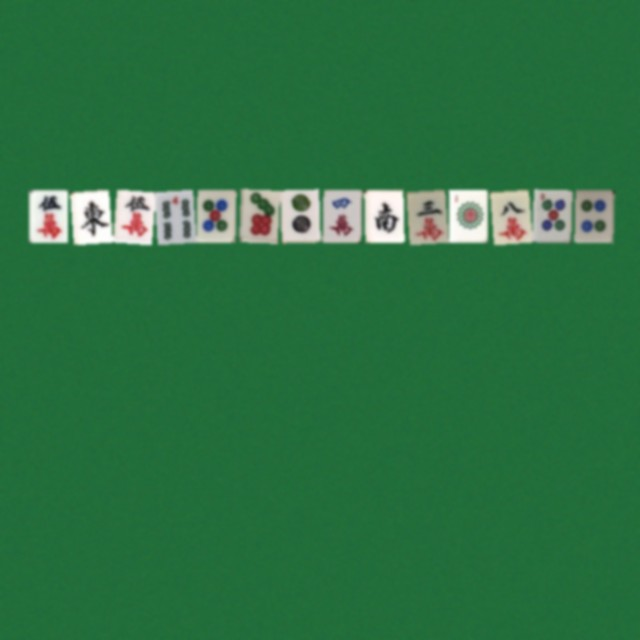tile: (28, 189, 67, 242), (70, 189, 109, 242), (112, 189, 151, 242), (154, 189, 193, 242), (196, 189, 235, 242), (238, 189, 277, 242), (280, 189, 319, 242), (322, 189, 361, 242), (364, 189, 403, 242), (406, 189, 445, 242), (448, 189, 487, 242), (490, 189, 529, 242), (532, 189, 571, 242), (574, 189, 613, 242)
